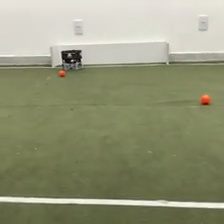ball: (199, 92, 211, 104), (58, 68, 66, 77)
goal: (48, 38, 171, 69)
robot: (59, 48, 83, 71)
